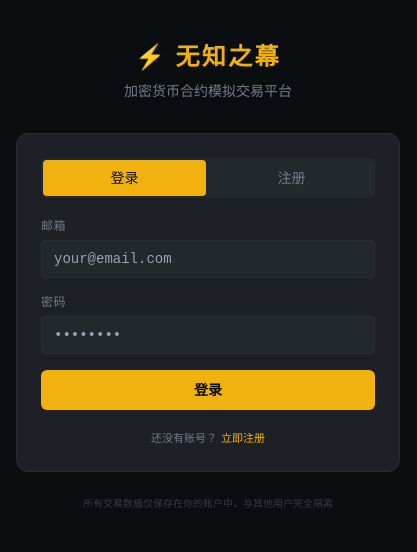
Test case: 登录页直接写出失败原因 › 存储写满：原因与占用明细原样写在按钮下方，按钮恢复可点
Type "a@b.c" into the field with placeholder "your@email.com".
click(208, 259); type("a@b.c")  # box [41, 240, 375, 278]
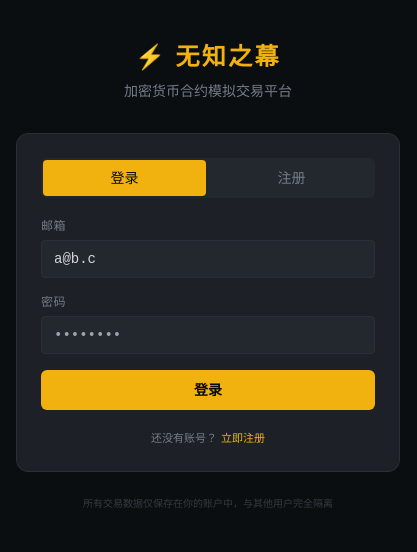
Type "secret-pw" into the password field with placeholder "••••••••".
click(208, 335); type("secret-pw")  # box [41, 316, 375, 354]
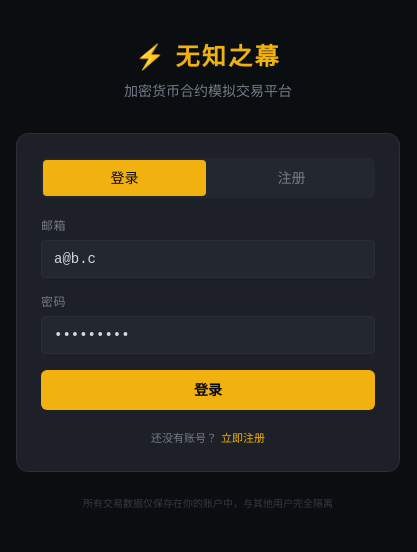
Submit the form, box [41, 218, 375, 410]
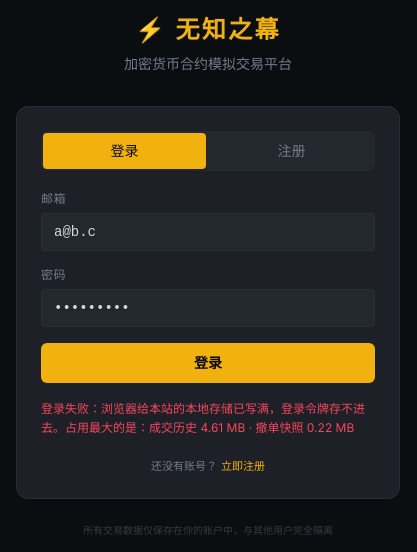
Expected: the submit button is enabled, [41, 343, 375, 383]
Expected: the message with test id "auth-form-error" reads "登录失败：浏览器给本站的本地存储已写满，登录令牌存不进去。占用最大的是：成交历史 4.61 MB · 撤单快照 0.22 MB", [41, 401, 365, 435]
